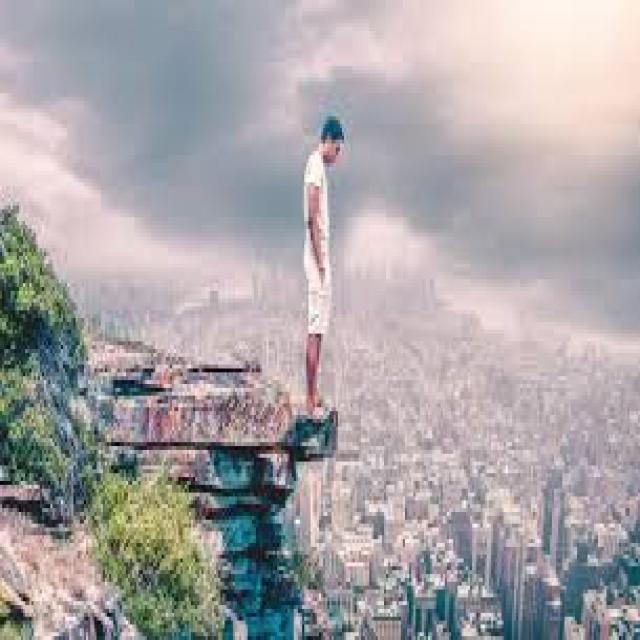Edited images: (289, 93, 362, 440)
